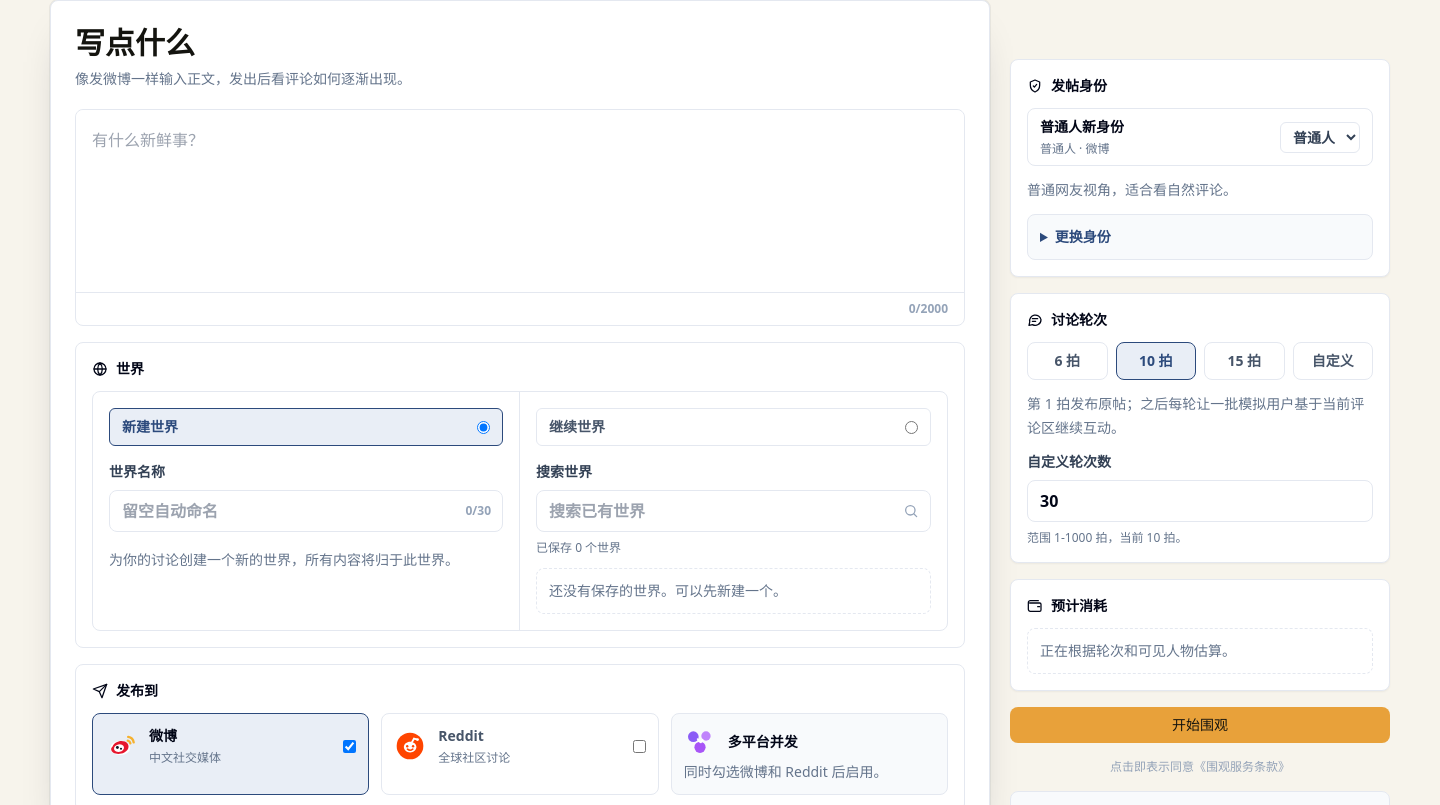
Test case: start is blocked when every platform is unchecked
Click the checkbox labelled "微博". click: click(350, 746)
box: [343,740,356,752]
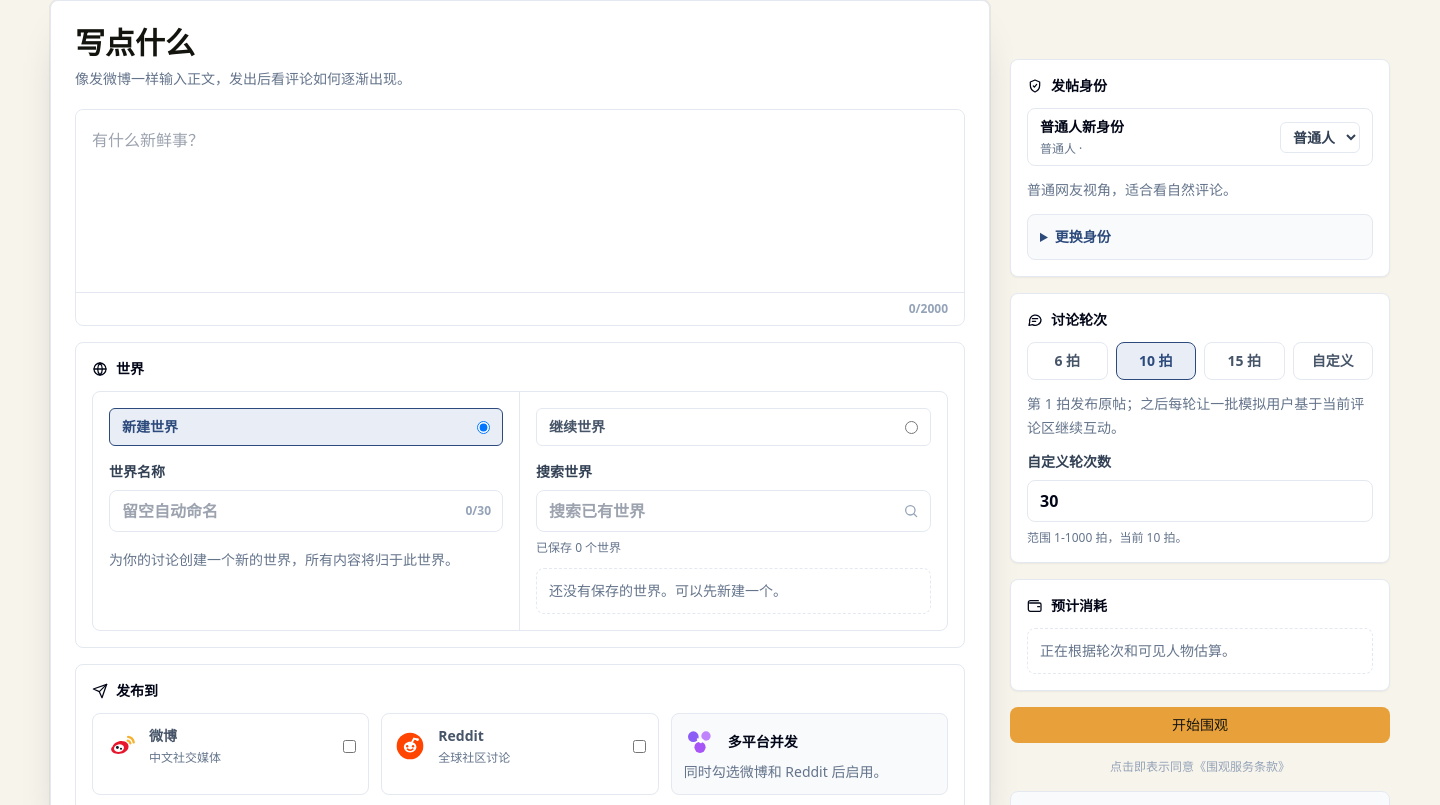
Type "没有平台" into the text box with placeholder "有什么新鲜事？". click: (520, 198)
box: [76,110,964,286]
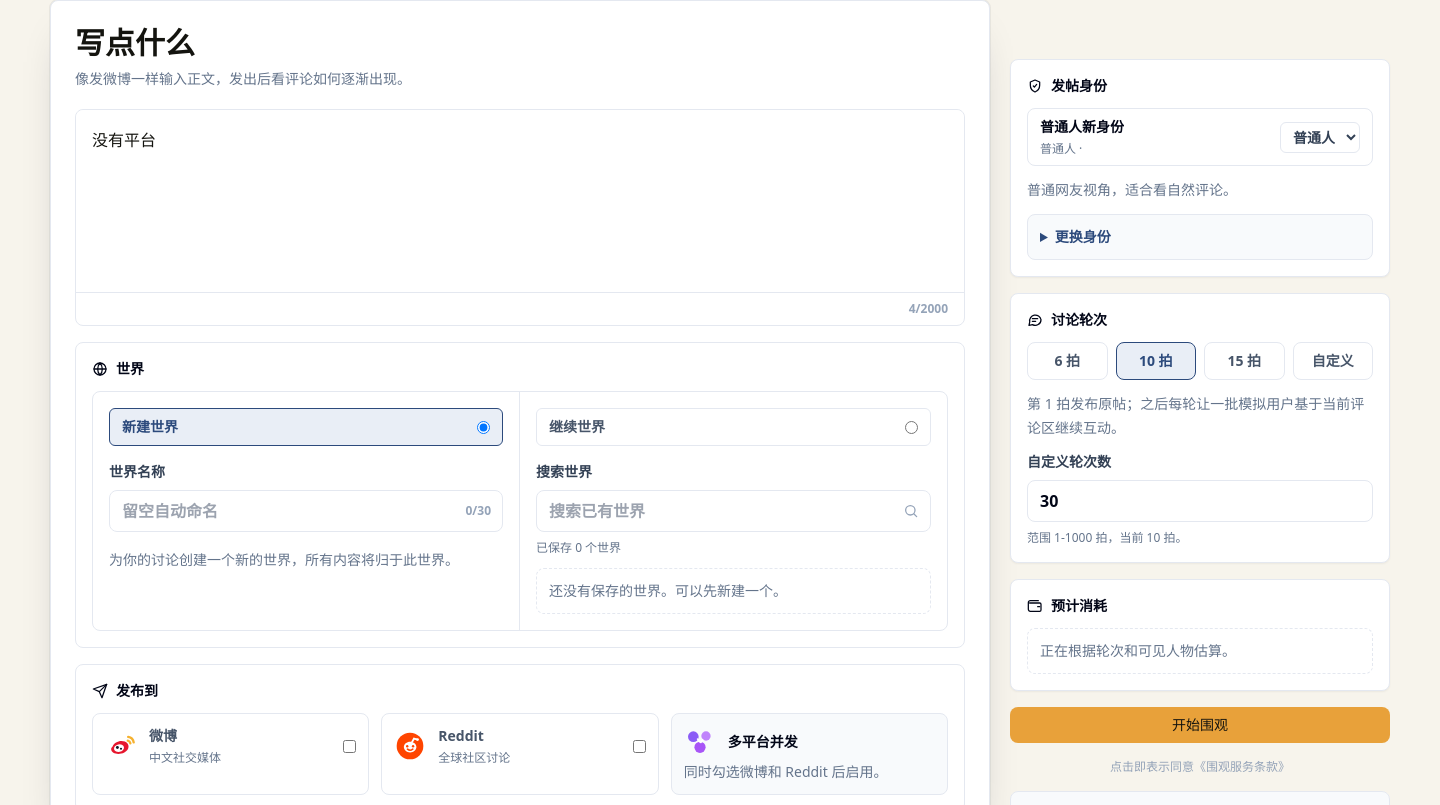
Click the button "开始围观". click: click(1200, 725)
box: [1010,707,1390,743]
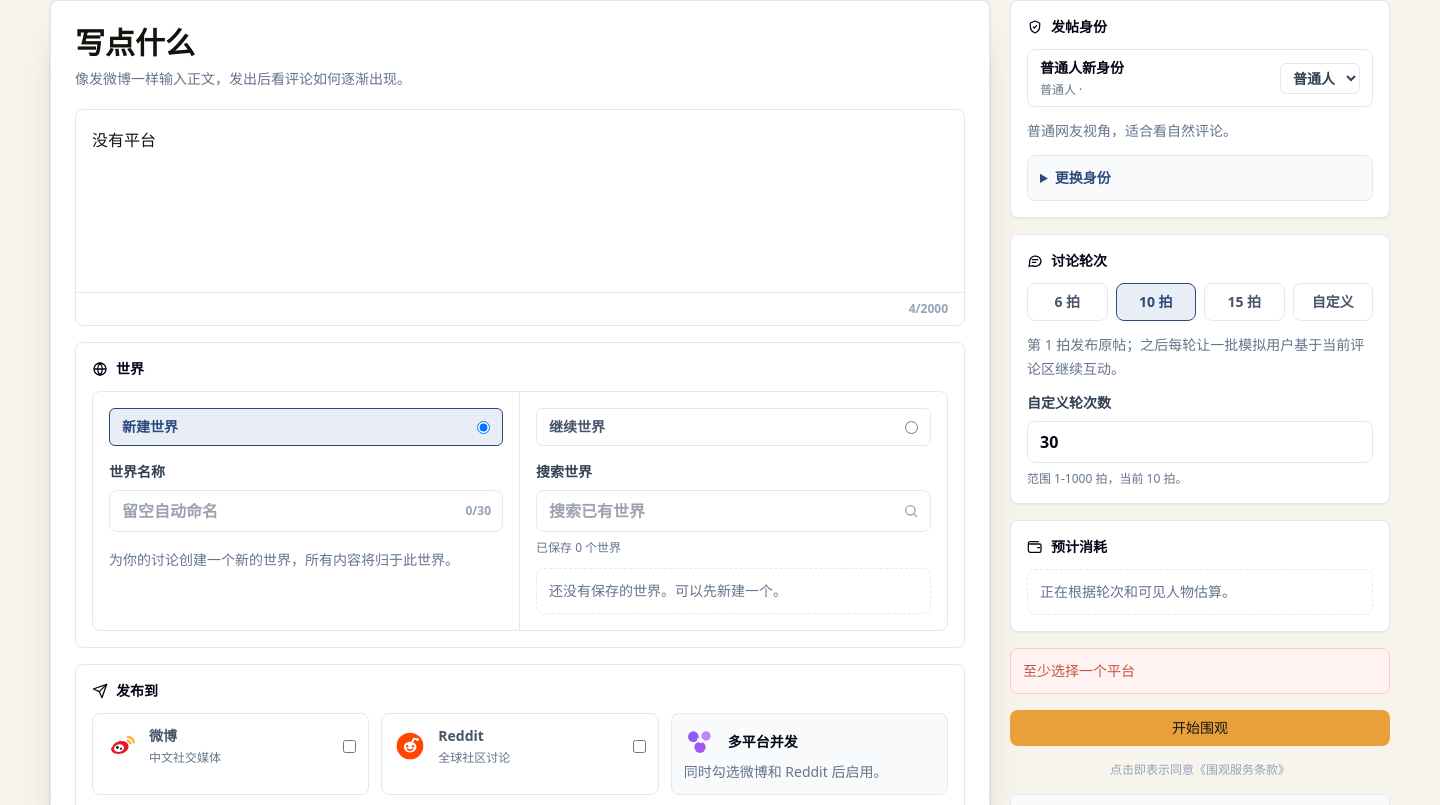
Now the text "至少选择一个平台" is shown, box [1010,648,1390,694]
